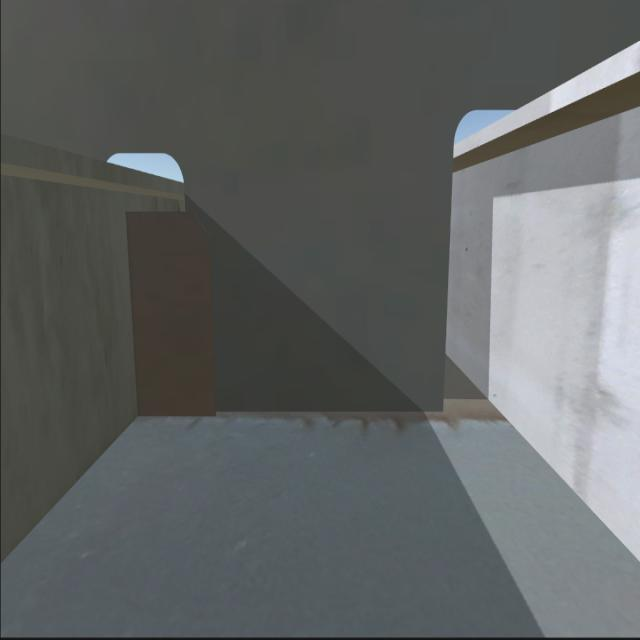fillet_yong_jeop_jang: (136, 411, 449, 418)
longi_yong_jeop_jang: (122, 215, 144, 418)
plate_CP03: (127, 213, 211, 417)
